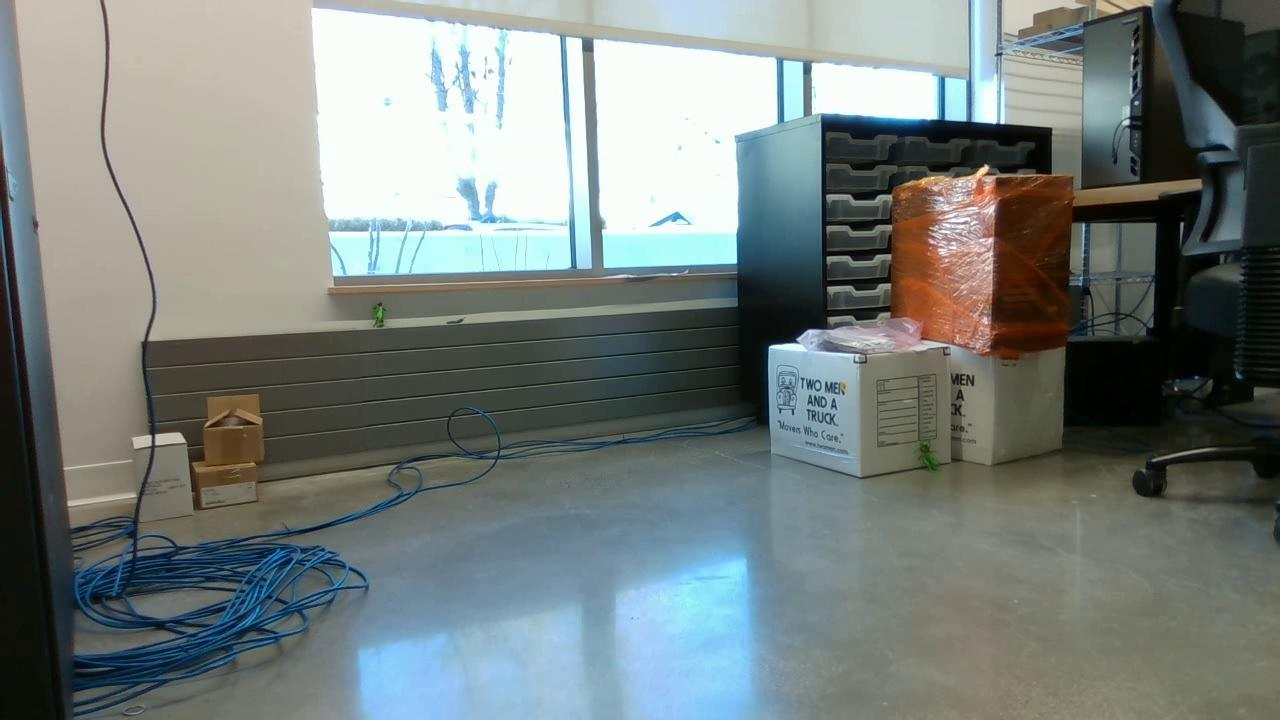grasshopper: (917, 440, 940, 472), (371, 302, 388, 327)
